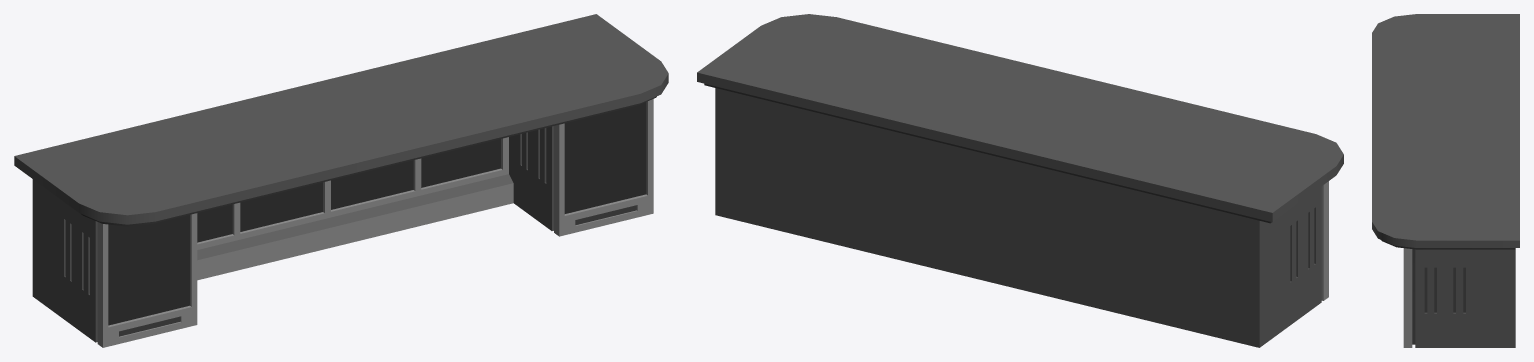
Rendered from EN_Table_V01.fbx.
3 renders of one model, left to right at view 1: azimuth 30°, elevation 25°; view 2: azimuth 150°, elevation 25°; view 3: azimuth 270°, elevation 25°, orthographic. The views are drawn at different scales.
Parts seen in each view (by area): view 1: GEO_Table; view 2: GEO_Table; view 3: GEO_Table.
Boxes of the visible parts, <box> form: GEO_Table: <box>14,14,668,347</box>; GEO_Table: <box>697,14,1343,347</box>; GEO_Table: <box>1372,14,1519,347</box>.
Size of the model in its own units: 271 by 63.33 by 74.77.
1 material, 1 textured.
